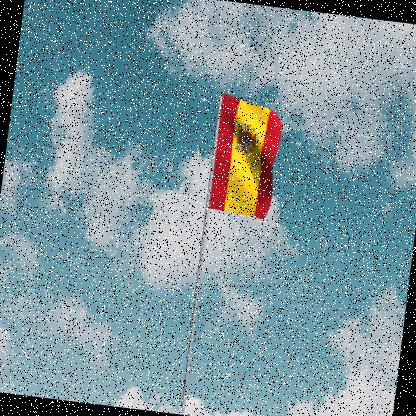es: (210, 94, 287, 222)
